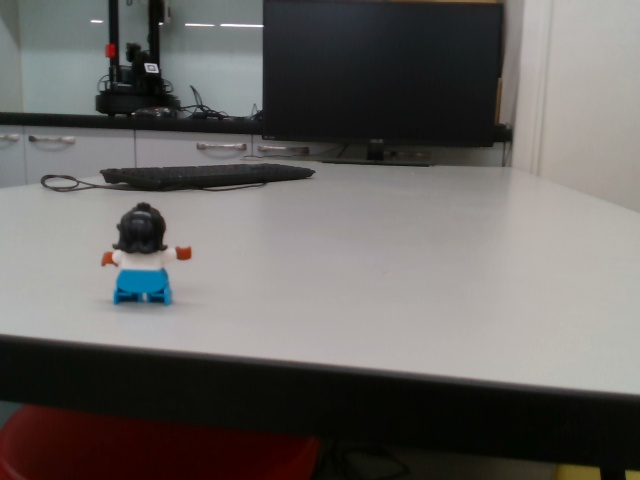people: (100, 198, 195, 311)
